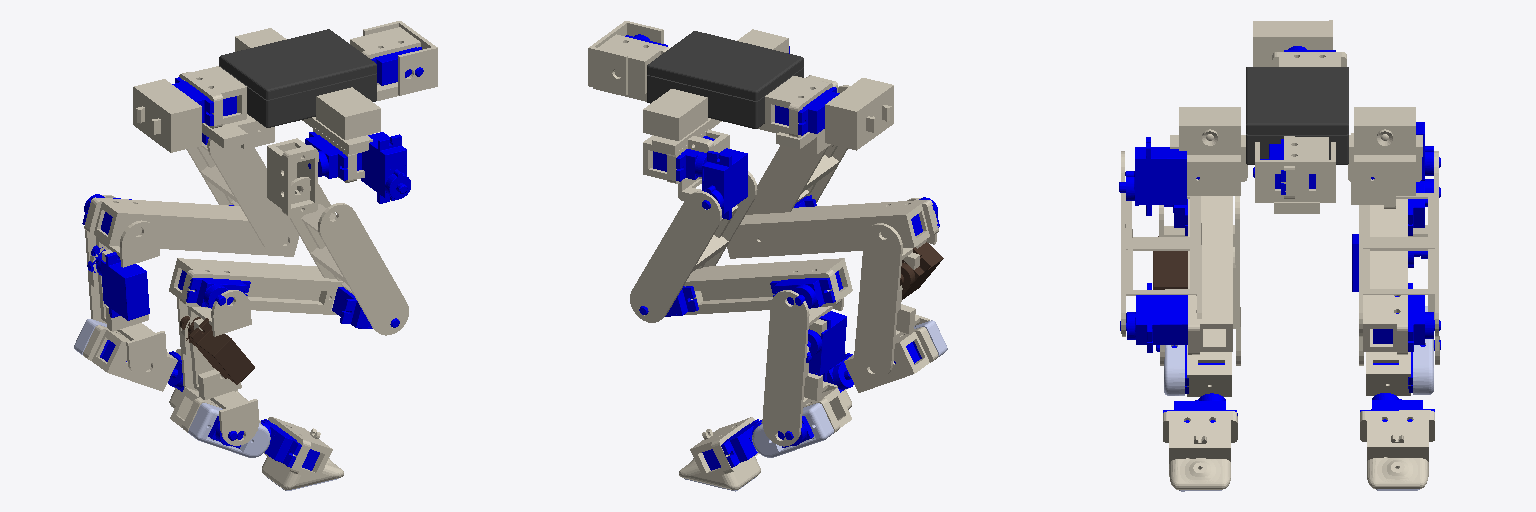
--- Facts derived from the render (not from the file) ---
Views: 3 orthographic renders of the robot side by side, from view 1: azimuth 30°, elevation 25°; view 2: azimuth 150°, elevation 25°; view 3: azimuth 270°, elevation 25°.
Robot: p4 — 42 links, 41 joints (15 continuous, 26 fixed); root link base_link; default pose: every joint at zero.
Links seen in each view (by area): view 1: CONTROL-BOX, R-LINK-HIP-ANKLE, L-LINK-ANKLE-TIBIA, R-LINK-ANKLE-TIBIA, L-LINK-HIP-ANKLE, R-LINK-TIBIA-FOOT, L-LINK-TIBIA-FOOT, REAR-CAPLING, R-SC-HIP-PITCH, L-SUCTION, R-FOOT, R-SERVO-HIP-PITCH (+16 smaller); view 2: CONTROL-BOX, R-LINK-ANKLE-TIBIA, L-LINK-HIP-ANKLE, R-LINK-TIBIA-FOOT, L-LINK-TIBIA-FOOT, L-LINK-ANKLE-TIBIA, R-LINK-HIP-ANKLE, REAR-CAPLING, L-FOOT, CAMERA-L, L-SERVO-HIP-PITCH, FRONT-CAPLING (+17 smaller); view 3: CONTROL-BOX, R-LINK-ANKLE-TIBIA, R-FOOT, L-FOOT, L-LINK-ANKLE-TIBIA, L-LINK-HIP-ANKLE, R-LINK-HIP-ANKLE, R-SERVO-HIP-PITCH, FRONT-CAPLING, R-SERVO-ANKLE-PITCH, L-SC-HIP-ROLL, CAMERA-R (+20 smaller).
Link boxes in pixels (bbox=[...]): CONTROL-BOX: bbox=[219, 29, 376, 127]; R-LINK-HIP-ANKLE: bbox=[290, 177, 408, 335]; L-LINK-ANKLE-TIBIA: bbox=[84, 197, 298, 256]; R-LINK-ANKLE-TIBIA: bbox=[169, 258, 343, 314]; L-LINK-HIP-ANKLE: bbox=[186, 138, 298, 253]; R-LINK-TIBIA-FOOT: bbox=[177, 290, 258, 445]; L-LINK-TIBIA-FOOT: bbox=[85, 195, 166, 377]; REAR-CAPLING: bbox=[133, 79, 201, 152]; R-SC-HIP-PITCH: bbox=[267, 138, 318, 217]; L-SUCTION: bbox=[87, 245, 149, 320]; R-FOOT: bbox=[262, 417, 343, 489]; R-SERVO-HIP-PITCH: bbox=[361, 132, 410, 203]; CONTROL-BOX: bbox=[647, 31, 803, 128]; R-LINK-ANKLE-TIBIA: bbox=[727, 200, 938, 258]; L-LINK-HIP-ANKLE: bbox=[630, 171, 757, 322]; R-LINK-TIBIA-FOOT: bbox=[854, 198, 936, 379]; L-LINK-TIBIA-FOOT: bbox=[762, 290, 843, 446]; L-LINK-ANKLE-TIBIA: bbox=[684, 258, 852, 314]; R-LINK-HIP-ANKLE: bbox=[746, 85, 849, 240]; REAR-CAPLING: bbox=[825, 78, 893, 150]; L-FOOT: bbox=[679, 417, 760, 489]; CAMERA-L: bbox=[643, 89, 707, 140]; L-SERVO-HIP-PITCH: bbox=[702, 148, 747, 219]; FRONT-CAPLING: bbox=[588, 21, 663, 94]; CONTROL-BOX: bbox=[1246, 67, 1348, 164]; R-LINK-ANKLE-TIBIA: bbox=[1188, 196, 1232, 354]; R-FOOT: bbox=[1163, 411, 1237, 489]; L-FOOT: bbox=[1360, 410, 1434, 488]; L-LINK-ANKLE-TIBIA: bbox=[1363, 199, 1407, 354]; L-LINK-HIP-ANKLE: bbox=[1359, 151, 1438, 336]; R-LINK-HIP-ANKLE: bbox=[1121, 151, 1201, 336]; R-SERVO-HIP-PITCH: bbox=[1119, 137, 1186, 215]; FRONT-CAPLING: bbox=[1255, 142, 1335, 202]; R-SERVO-ANKLE-PITCH: bbox=[1120, 283, 1187, 352]; L-SC-HIP-ROLL: bbox=[1348, 155, 1421, 195]; CAMERA-R: bbox=[1179, 107, 1240, 150].
Size in the robot's own frame: 0.1547 by 0.1403 by 0.1937 metres.
42 mesh visuals loaded from 42 distinct referenced files (42 OBJ).

URDF robot description (p4):
<?xml version="1.0" encoding="utf-8"?>
<!-- This URDF was automatically created by SolidWorks to URDF Exporter! Originally created by Stephen Brawner ([email redacted]) 
     Commit Version: 1.6.0-1-g15f4949  Build Version: 1.6.7594.29634
     For more information, please see http://wiki.ros.org/sw_urdf_exporter -->
<robot
  name="p4">
  <link
    name="base_link">
    <inertial>
      <origin
        xyz="0.000130833846896952 -5.09584418458345E-06 0.00251356024970444"
        rpy="0 0 0" />
      <mass
        value="0.0191012536604614" />
      <inertia
        ixx="8.08993467976211E-06"
        ixy="4.57728253330525E-09"
        ixz="-1.2180335950482E-08"
        iyy="1.71771116325382E-05"
        iyz="3.35403185901532E-10"
        izz="2.51810305583356E-05" />
    </inertial>
    <visual>
      <origin
        xyz="0 0 0"
        rpy="0 0 0" />
      <geometry>
        <mesh
          filename="meshes/base_link.obj" />
      </geometry>
      <material
        name="">
        <color
          rgba="0.843137254901961 0.815686274509804 0.752941176470588 1" />
      </material>
    </visual>
    <collision>
      <origin
        xyz="0 0 0"
        rpy="0 0 0" />
      <geometry>
        <mesh
          filename="meshes/base_link.obj" />
      </geometry>
    </collision>
  </link>
  <link
    name="SC-FRONT-CAPLING">
    <inertial>
      <origin
        xyz="-4.62080969304418E-05 0 0.00584718632904135"
        rpy="0 0 0" />
      <mass
        value="0.00388168562397067" />
      <inertia
        ixx="3.09363335808725E-07"
        ixy="-3.47157363330849E-23"
        ixz="-1.22041640500417E-09"
        iyy="5.16127047137716E-07"
        iyz="-6.20385459414771E-24"
        izz="4.87639165330734E-07" />
    </inertial>
    <visual>
      <origin
        xyz="0 0 0"
        rpy="0 0 0" />
      <geometry>
        <mesh
          filename="meshes/SC-FRONT-CAPLING.obj" />
      </geometry>
      <material
        name="">
        <color
          rgba="0.843137254901961 0.815686274509804 0.752941176470588 1" />
      </material>
    </visual>
    <collision>
      <origin
        xyz="0 0 0"
        rpy="0 0 0" />
      <geometry>
        <mesh
          filename="meshes/SC-FRONT-CAPLING.obj" />
      </geometry>
    </collision>
  </link>
  <joint
    name="SC-FRONT-CAPLING"
    type="fixed">
    <origin
      xyz="0.0471559317126615 0.0105 0.0133"
      rpy="1.5707963267949 0 0" />
    <parent
      link="base_link" />
    <child
      link="SC-FRONT-CAPLING" />
    <axis
      xyz="0 0 0" />
  </joint>
  <link
    name="SERVO-FRONT-CAPLING-PITCH">
    <inertial>
      <origin
        xyz="-0.00038450850214946 0.0136027787684369 1.20910077089365E-10"
        rpy="0 0 0" />
      <mass
        value="0.00691519224201597" />
      <inertia
        ixx="4.42030047319264E-07"
        ixy="3.31941458676756E-08"
        ixz="-9.72969179119033E-14"
        iyy="4.05343652309664E-07"
        iyz="-7.29616884211451E-15"
        izz="6.8499830986961E-07" />
    </inertial>
    <visual>
      <origin
        xyz="0 0 0"
        rpy="0 0 0" />
      <geometry>
        <mesh
          filename="meshes/SERVO-FRONT-CAPLING-PITCH.obj" />
      </geometry>
      <material
        name="">
        <color
          rgba="0 0 1 1" />
      </material>
    </visual>
    <collision>
      <origin
        xyz="0 0 0"
        rpy="0 0 0" />
      <geometry>
        <mesh
          filename="meshes/SERVO-FRONT-CAPLING-PITCH.obj" />
      </geometry>
    </collision>
  </link>
  <joint
    name="SERVO-FRONT-CAPLING-PITCH"
    type="fixed">
    <origin
      xyz="0 0 0"
      rpy="1.5707963267949 0 -3.14159265358979" />
    <parent
      link="SC-FRONT-CAPLING" />
    <child
      link="SERVO-FRONT-CAPLING-PITCH" />
    <axis
      xyz="0 0 0" />
  </joint>
  <link
    name="FRONT-CAPLING">
    <inertial>
      <origin
        xyz="0.014574688650026 -0.0125000001368535 7.15962462633987E-06"
        rpy="0 0 0" />
      <mass
        value="0.00270228717508012" />
      <inertia
        ixx="6.13949611396288E-07"
        ixy="-3.85120019481727E-15"
        ixz="-2.29493110058851E-14"
        iyy="2.03802701162907E-07"
        iyz="-3.47736389759636E-21"
        izz="6.27041981381136E-07" />
    </inertial>
    <visual>
      <origin
        xyz="0 0 0"
        rpy="0 0 0" />
      <geometry>
        <mesh
          filename="meshes/FRONT-CAPLING.obj" />
      </geometry>
      <material
        name="">
        <color
          rgba="0.843137254901961 0.815686274509804 0.752941176470588 1" />
      </material>
    </visual>
    <collision>
      <origin
        xyz="0 0 0"
        rpy="0 0 0" />
      <geometry>
        <mesh
          filename="meshes/FRONT-CAPLING.obj" />
      </geometry>
    </collision>
  </link>
  <joint
    name="CAPLING-F-PITCH"
    type="continuous">
    <origin
      xyz="0 0 0"
      rpy="0 0.00136062510321918 -3.14159264419998" />
    <parent
      link="SERVO-FRONT-CAPLING-PITCH" />
    <child
      link="FRONT-CAPLING" />
    <axis
      xyz="0 1 0" />
    <limit
      lower="-6.28"
      upper="6.28"
      effort="80"
      velocity="15" />
  </joint>
  <link
    name="SC-REAR-CAPLING">
    <inertial>
      <origin
        xyz="-4.62080969304245E-05 3.46944695195361E-18 0.00584718632904137"
        rpy="0 0 0" />
      <mass
        value="0.00388168562397067" />
      <inertia
        ixx="3.09363335808725E-07"
        ixy="3.26736341958446E-23"
        ixz="-1.22041640500443E-09"
        iyy="5.16127047137717E-07"
        iyz="-3.47932845155117E-23"
        izz="4.87639165330735E-07" />
    </inertial>
    <visual>
      <origin
        xyz="0 0 0"
        rpy="0 0 0" />
      <geometry>
        <mesh
          filename="meshes/SC-REAR-CAPLING.obj" />
      </geometry>
      <material
        name="">
        <color
          rgba="0.843137254901961 0.815686274509804 0.752941176470588 1" />
      </material>
    </visual>
    <collision>
      <origin
        xyz="0 0 0"
        rpy="0 0 0" />
      <geometry>
        <mesh
          filename="meshes/SC-REAR-CAPLING.obj" />
      </geometry>
    </collision>
  </link>
  <joint
    name="SC-REAR-CAPLING"
    type="fixed">
    <origin
      xyz="-0.0373440682873384 0.00524999999999999 0.0133"
      rpy="1.5707963267949 0 -1.5707963267949" />
    <parent
      link="base_link" />
    <child
      link="SC-REAR-CAPLING" />
    <axis
      xyz="0 0 0" />
  </joint>
  <link
    name="SERVO-REAR-CAPLING-ROLL">
    <inertial>
      <origin
        xyz="-0.000384508488524862 0.0136027787506022 9.57142906599096E-11"
        rpy="0 0 0" />
      <mass
        value="0.00691519222019108" />
      <inertia
        ixx="4.42030046142476E-07"
        ixy="3.31941452180302E-08"
        ixz="-9.80192861599844E-14"
        iyy="4.05343651347374E-07"
        iyz="-5.85892562390251E-15"
        izz="6.84998308642159E-07" />
    </inertial>
    <visual>
      <origin
        xyz="0 0 0"
        rpy="0 0 0" />
      <geometry>
        <mesh
          filename="meshes/SERVO-REAR-CAPLING-ROLL.obj" />
      </geometry>
      <material
        name="">
        <color
          rgba="0 0 1 1" />
      </material>
    </visual>
    <collision>
      <origin
        xyz="0 0 0"
        rpy="0 0 0" />
      <geometry>
        <mesh
          filename="meshes/SERVO-REAR-CAPLING-ROLL.obj" />
      </geometry>
    </collision>
  </link>
  <joint
    name="SERVO-REAR-CAPLING-ROLL"
    type="fixed">
    <origin
      xyz="0 0 0"
      rpy="1.5707963267949 0 3.14159265358979" />
    <parent
      link="SC-REAR-CAPLING" />
    <child
      link="SERVO-REAR-CAPLING-ROLL" />
    <axis
      xyz="0 0 0" />
  </joint>
  <link
    name="REAR-CAPLING">
    <inertial>
      <origin
        xyz="-0.00202494491526174 0 -0.00800243164091274"
        rpy="0 0 0" />
      <mass
        value="0.00787132522957532" />
      <inertia
        ixx="5.83100326597712E-07"
        ixy="1.78671012311454E-22"
        ixz="1.0750572492642E-09"
        iyy="1.18904229209336E-06"
        iyz="6.81390029590557E-23"
        izz="1.26739941933807E-06" />
    </inertial>
    <visual>
      <origin
        xyz="0 0 0"
        rpy="0 0 0" />
      <geometry>
        <mesh
          filename="meshes/REAR-CAPLING.obj" />
      </geometry>
      <material
        name="">
        <color
          rgba="0.843137254901961 0.815686274509804 0.752941176470588 1" />
      </material>
    </visual>
    <collision>
      <origin
        xyz="0 0 0"
        rpy="0 0 0" />
      <geometry>
        <mesh
          filename="meshes/REAR-CAPLING.obj" />
      </geometry>
    </collision>
  </link>
  <joint
    name="CAPLING-REAR-ROLL"
    type="continuous">
    <origin
      xyz="-0.00525000000000002 0.0277727899695562 0"
      rpy="1.5707963267949 -0.00599774643389022 0" />
    <parent
      link="SERVO-REAR-CAPLING-ROLL" />
    <child
      link="REAR-CAPLING" />
    <axis
      xyz="0 0 1" />
    <limit
      lower="-6.28"
      upper="6.28"
      effort="80"
      velocity="15" />
  </joint>
  <link
    name="CAMERA-R">
    <inertial>
      <origin
        xyz="-1.01915004213637E-13 -0.00225514018951331 0.00548823668072749"
        rpy="0 0 0" />
      <mass
        value="0.00441438279557042" />
      <inertia
        ixx="2.33951287452868E-07"
        ixy="3.51553518093838E-19"
        ixz="-2.33978472993899E-18"
        iyy="4.66886094850384E-07"
        iyz="-3.66670288580514E-10"
        izz="3.63002723525073E-07" />
    </inertial>
    <visual>
      <origin
        xyz="0 0 0"
        rpy="0 0 0" />
      <geometry>
        <mesh
          filename="meshes/CAMERA-R.obj" />
      </geometry>
      <material
        name="">
        <color
          rgba="0.843137254901961 0.815686274509804 0.752941176470588 1" />
      </material>
    </visual>
    <collision>
      <origin
        xyz="0 0 0"
        rpy="0 0 0" />
      <geometry>
        <mesh
          filename="meshes/CAMERA-R.obj" />
      </geometry>
    </collision>
  </link>
  <joint
    name="CAMERA-R"
    type="fixed">
    <origin
      xyz="0.00995593171266154 -0.038 0.0133"
      rpy="1.5707963267949 0 -1.5707963267949" />
    <parent
      link="base_link" />
    <child
      link="CAMERA-R" />
    <axis
      xyz="0 0 0" />
  </joint>
  <link
    name="CAMERA-L">
    <inertial>
      <origin
        xyz="-6.37129238256762E-14 -0.00225513996537154 0.0054882408557551"
        rpy="0 0 0" />
      <mass
        value="0.00441438009619701" />
      <inertia
        ixx="2.33951152269053E-07"
        ixy="4.30339679704947E-19"
        ixz="-1.54909928228997E-18"
        iyy="4.66885956678154E-07"
        iyz="-3.66662417948698E-10"
        izz="3.63002718179101E-07" />
    </inertial>
    <visual>
      <origin
        xyz="0 0 0"
        rpy="0 0 0" />
      <geometry>
        <mesh
          filename="meshes/CAMERA-L.obj" />
      </geometry>
      <material
        name="">
        <color
          rgba="0.843137254901961 0.815686274509804 0.752941176470588 1" />
      </material>
    </visual>
    <collision>
      <origin
        xyz="0 0 0"
        rpy="0 0 0" />
      <geometry>
        <mesh
          filename="meshes/CAMERA-L.obj" />
      </geometry>
    </collision>
  </link>
  <joint
    name="CAMERA-L"
    type="fixed">
    <origin
      xyz="0.00995593171266154 0.038 0.0133"
      rpy="1.5707963267949 0 -1.5707963267949" />
    <parent
      link="base_link" />
    <child
      link="CAMERA-L" />
    <axis
      xyz="0 0 0" />
  </joint>
  <link
    name="CONTROL-BOX">
    <inertial>
      <origin
        xyz="0 -3.46944695195361E-18 0.00999094259173401"
        rpy="0 0 0" />
      <mass
        value="0.0537914675196551" />
      <inertia
        ixx="1.08257277154903E-05"
        ixy="5.91666782522695E-22"
        ixz="-9.62011052399171E-22"
        iyy="1.78698396830791E-05"
        iyz="-5.29395592033938E-22"
        izz="2.51183318462632E-05" />
    </inertial>
    <visual>
      <origin
        xyz="0 0 0"
        rpy="0 0 0" />
      <geometry>
        <mesh
          filename="meshes/CONTROL-BOX.obj" />
      </geometry>
      <material
        name="">
        <color
          rgba="0.298039215686275 0.298039215686275 0.298039215686275 1" />
      </material>
    </visual>
    <collision>
      <origin
        xyz="0 0 0"
        rpy="0 0 0" />
      <geometry>
        <mesh
          filename="meshes/CONTROL-BOX.obj" />
      </geometry>
    </collision>
  </link>
  <joint
    name="CONTROL-BOX"
    type="fixed">
    <origin
      xyz="-0.0020940682873385 0 0.005"
      rpy="0 0 0" />
    <parent
      link="base_link" />
    <child
      link="CONTROL-BOX" />
    <axis
      xyz="0 0 0" />
  </joint>
  <link
    name="R-SC-HIP-ROLL">
    <inertial>
      <origin
        xyz="-4.62080969304297E-05 6.50521303491303E-19 0.00584718632904135"
        rpy="0 0 0" />
      <mass
        value="0.00388168562397067" />
      <inertia
        ixx="3.09363335808725E-07"
        ixy="-2.254067169207E-23"
        ixz="-1.22041640500427E-09"
        iyy="5.16127047137717E-07"
        iyz="1.62851183096377E-23"
        izz="4.87639165330735E-07" />
    </inertial>
    <visual>
      <origin
        xyz="0 0 0"
        rpy="0 0 0" />
      <geometry>
        <mesh
          filename="meshes/R-SC-HIP-ROLL.obj" />
      </geometry>
      <material
        name="">
        <color
          rgba="0.843137254901961 0.815686274509804 0.752941176470588 1" />
      </material>
    </visual>
    <collision>
      <origin
        xyz="0 0 0"
        rpy="0 0 0" />
      <geometry>
        <mesh
          filename="meshes/R-SC-HIP-ROLL.obj" />
      </geometry>
    </collision>
  </link>
  <joint
    name="R-SC-HIP-ROLL"
    type="fixed">
    <origin
      xyz="0.00995593171266153 -0.038 -0.0083"
      rpy="1.5707963267949 0 -1.5707963267949" />
    <parent
      link="base_link" />
    <child
      link="R-SC-HIP-ROLL" />
    <axis
      xyz="0 0 0" />
  </joint>
  <link
    name="R-SERVO-HIP-ROLL">
    <inertial>
      <origin
        xyz="-0.000384508493185099 0.0136027787565833 1.15177337285666E-10"
        rpy="0 0 0" />
      <mass
        value="0.00691519222535946" />
      <inertia
        ixx="4.42030046583754E-07"
        ixy="3.31941454934825E-08"
        ixz="-9.74447356917254E-14"
        iyy="4.05343651641893E-07"
        iyz="-7.02838499891047E-15"
        izz="6.84998309178909E-07" />
    </inertial>
    <visual>
      <origin
        xyz="0 0 0"
        rpy="0 0 0" />
      <geometry>
        <mesh
          filename="meshes/R-SERVO-HIP-ROLL.obj" />
      </geometry>
      <material
        name="">
        <color
          rgba="0 0 1 1" />
      </material>
    </visual>
    <collision>
      <origin
        xyz="0 0 0"
        rpy="0 0 0" />
      <geometry>
        <mesh
          filename="meshes/R-SERVO-HIP-ROLL.obj" />
      </geometry>
    </collision>
  </link>
  <joint
    name="R-SERVO-HIP-ROLL"
    type="fixed">
    <origin
      xyz="0 0 0"
      rpy="1.5707963267949 0 3.14159265358979" />
    <parent
      link="R-SC-HIP-ROLL" />
    <child
      link="R-SERVO-HIP-ROLL" />
    <axis
      xyz="0 0 0" />
  </joint>
  <link
    name="R-SC-HIP-PITCH">
    <inertial>
      <origin
        xyz="0.00545379190306954 -0.00834421800043532 -0.00595281367095862"
        rpy="0 0 0" />
      <mass
        value="0.00388168562397067" />
      <inertia
        ixx="3.09363335808725E-07"
        ixy="6.08443039321036E-22"
        ixz="-1.22041640500463E-09"
        iyy="5.16127047137718E-07"
        iyz="1.57914049789397E-23"
        izz="4.87639165330735E-07" />
    </inertial>
    <visual>
      <origin
        xyz="0 0 0"
        rpy="0 0 0" />
      <geometry>
        <mesh
          filename="meshes/R-SC-HIP-PITCH.obj" />
      </geometry>
      <material
        name="">
        <color
          rgba="0.843137254901961 0.815686274509804 0.752941176470588 1" />
      </material>
    </visual>
    <collision>
      <origin
        xyz="0 0 0"
        rpy="0 0 0" />
      <geometry>
        <mesh
          filename="meshes/R-SC-HIP-PITCH.obj" />
      </geometry>
    </collision>
  </link>
  <joint
    name="R-HIP-ROLL"
    type="continuous">
    <origin
      xyz="-0.00525000000000002 0.0287557819995647 0"
      rpy="3.14159265358929 1.56467062695372 0" />
    <parent
      link="R-SERVO-HIP-ROLL" />
    <child
      link="R-SC-HIP-PITCH" />
    <axis
      xyz="0 1 0" />
    <limit
      lower="-6.28"
      upper="6.28"
      effort="80"
      velocity="15" />
  </joint>
  <link
    name="R-SERVO-HIP-PITCH">
    <inertial>
      <origin
        xyz="-0.00591360539324797 -0.0029471321150755 -0.0370999999022565"
        rpy="0 0 0" />
      <mass
        value="0.00691519223490345" />
      <inertia
        ixx="4.4203004720847E-07"
        ixy="3.31941458833204E-08"
        ixz="-9.7976417692398E-14"
        iyy="4.05343652123432E-07"
        iyz="-5.91378038922202E-15"
        izz="6.84998309841992E-07" />
    </inertial>
    <visual>
      <origin
        xyz="0 0 0"
        rpy="0 0 0" />
      <geometry>
        <mesh
          filename="meshes/R-SERVO-HIP-PITCH.obj" />
      </geometry>
      <material
        name="">
        <color
          rgba="0 0 1 1" />
      </material>
    </visual>
    <collision>
      <origin
        xyz="0 0 0"
        rpy="0 0 0" />
      <geometry>
        <mesh
          filename="meshes/R-SERVO-HIP-PITCH.obj" />
      </geometry>
    </collision>
  </link>
  <joint
    name="R-SERVO-HIP-PITCH"
    type="fixed">
    <origin
      xyz="-2.90968922719282E-05 0.0287557819995648 0.00474991088030713"
      rpy="1.5707963267949 0 3.14159265358979" />
    <parent
      link="R-SC-HIP-PITCH" />
    <child
      link="R-SERVO-HIP-PITCH" />
    <axis
      xyz="0 0 0" />
  </joint>
  <link
    name="R-LINK-HIP-ANKLE">
    <inertial>
      <origin
        xyz="0.0355000000000001 0.0040499108803071 -6.93889390390723E-18"
        rpy="0 0 0" />
      <mass
        value="0.0128808114115962" />
      <inertia
        ixx="2.7990680763248E-06"
        ixy="-2.23752355695594E-22"
        ixz="1.90582413132218E-21"
        iyy="4.16552090795131E-06"
        iyz="1.60204205136208E-21"
        izz="6.28781585284836E-06" />
    </inertial>
    <visual>
      <origin
        xyz="0 0 0"
        rpy="0 0 0" />
      <geometry>
        <mesh
          filename="meshes/R-LINK-HIP-ANKLE.obj" />
      </geometry>
      <material
        name="">
        <color
          rgba="0.843137254901961 0.815686274509804 0.752941176470588 1" />
      </material>
    </visual>
    <collision>
      <origin
        xyz="0 0 0"
        rpy="0 0 0" />
      <geometry>
        <mesh
          filename="meshes/R-LINK-HIP-ANKLE.obj" />
      </geometry>
    </collision>
  </link>
  <joint
    name="R-HIP-PITCH"
    type="continuous">
    <origin
      xyz="-0.0107790968922718 0 -0.0371000000000001"
      rpy="0 -0.485143684220994 3.14159265358979" />
    <parent
      link="R-SERVO-HIP-PITCH" />
    <child
      link="R-LINK-HIP-ANKLE" />
    <axis
      xyz="0 1 0" />
    <limit
      lower="-6.28"
      upper="6.28"
      effort="80"
      velocity="15" />
  </joint>
  <link
    name="R-SERVO-ANKLE-PITCH">
    <inertial>
      <origin
        xyz="0.00486549150075104 -0.00294713210168423 1.13097892162628E-10"
        rpy="0 0 0" />
      <mass
        value="0.00691519224247509" />
      <inertia
        ixx="4.42030048324441E-07"
        ixy="3.31941458847873E-08"
        ixz="-9.75133494341107E-14"
        iyy="4.05343652091162E-07"
        iyz="-6.88172051353781E-15"
        izz="6.8499831061536E-07" />
    </inertial>
    <visual>
      <origin
        xyz="0 0 0"
        rpy="0 0 0" />
      <geometry>
        <mesh
          filename="meshes/R-SERVO-ANKLE-PITCH.obj" />
      </geometry>
      <material
        name="">
        <color
          rgba="0 0 1 1" />
      </material>
    </visual>
    <collision>
      <origin
        xyz="0 0 0"
        rpy="0 0 0" />
      <geometry>
        <mesh
          filename="meshes/R-SERVO-ANKLE-PITCH.obj" />
      </geometry>
    </collision>
  </link>
  <joint
    name="R-ANKLE-PITCH"
    type="continuous">
    <origin
      xyz="0.0710000000000002 0 0"
      rpy="0 0.802849328179599 -3.14159265358979" />
    <parent
      link="R-LINK-HIP-ANKLE" />
    <child
      link="R-SERVO-ANKLE-PITCH" />
    <axis
      xyz="0 1 0" />
    <limit
      lower="-6.28"
      upper="6.28"
      effort="80"
      velocity="15" />
  </joint>
  <link
    name="R-LINK-ANKLE-TIBIA">
    <inertial>
      <origin
        xyz="0.0385 2.77555756156289E-17 0.00599868719391975"
        rpy="0 0 0" />
      <mass
        value="0.0169515393948696" />
      <inertia
        ixx="1.27646377972887E-06"
        ixy="-2.64697796016969E-21"
        ixz="7.76438251851728E-22"
        iyy="1.4737629444282E-05"
        iyz="-1.18286827595083E-22"
        izz="1.46513437096869E-05" />
    </inertial>
    <visual>
      <origin
        xyz="0 0 0"
        rpy="0 0 0" />
      <geometry>
        <mesh
          filename="meshes/R-LINK-ANKLE-TIBIA.obj" />
      </geometry>
      <material
        name="">
        <color
          rgba="0.843137254901961 0.815686274509804 0.752941176470588 1" />
      </material>
    </visual>
    <collision>
      <origin
        xyz="0 0 0"
        rpy="0 0 0" />
      <geometry>
        <mesh
          filename="meshes/R-LINK-ANKLE-TIBIA.obj" />
      </geometry>
    </collision>
  </link>
  <joint
    name="R-LINK-ANKLE-TIBIA"
    type="fixed">
    <origin
      xyz="0.08225 -0.0165499108803071 0"
      rpy="1.5707963267949 0 -3.14159265358979" />
    <parent
      link="R-SERVO-ANKLE-PITCH" />
    <child
      link="R-LINK-ANKLE-TIBIA" />
    <axis
      xyz="0 0 0" />
  </joint>
  <link
    name="R-SERVO-TIBIA-PITCH">
    <inertial>
      <origin
        xyz="-0.00038450849721279 0.0136027787678955 1.04213443430368E-10"
        rpy="0 0 0" />
      <mass
        value="0.00691519223380914" />
      <inertia
        ixx="4.42030047498186E-07"
        ixy="3.31941457501825E-08"
        ixz="-9.78048382734444E-14"
        iyy="4.05343651896072E-07"
        iyz="-6.31370399296552E-15"
        izz="6.84998309951388E-07" />
    </inertial>
    <visual>
      <origin
        xyz="0 0 0"
        rpy="0 0 0" />
      <geometry>
        <mesh
          filename="meshes/R-SERVO-TIBIA-PITCH.obj" />
      </geometry>
      <material
        name="">
        <color
          rgba="0 0 1 1" />
      </material>
    </visual>
    <collision>
      <origin
        xyz="0 0 0"
        rpy="0 0 0" />
      <geometry>
        <mesh
          filename="meshes/R-SERVO-TIBIA-PITCH.obj" />
      </geometry>
    </collision>
  </link>
  <joint
    name="R-SERVO-TIBIA-PITCH"
    type="fixed">
    <origin
      xyz="0 0 0"
      rpy="1.5707963267949 0 0" />
    <parent
      link="R-LINK-ANKLE-TIBIA" />
    <child
      link="R-SERVO-TIBIA-PITCH" />
    <axis
      xyz="0 0 0" />
  </joint>
  <link
    name="R-LINK-TIBIA-FOOT">
    <inertial>
      <origin
        xyz="-0.0345628071394706 -0.00758934273175064 0.00492030508195247"
        rpy="0 0 0" />
      <mass
        value="0.00862384221571939" />
      <inertia
        ixx="1.56482853918434E-06"
        ixy="-9.25199440592271E-09"
        ixz="2.38005169920403E-09"
        iyy="4.04460133877993E-06"
        iyz="6.61009493683602E-10"
        izz="5.13010743226957E-06" />
    </inertial>
    <visual>
      <origin
        xyz="0 0 0"
        rpy="0 0 0" />
      <geometry>
        <mesh
          filename="meshes/R-LINK-TIBIA-FOOT.obj" />
      </geometry>
      <material
        name="">
        <color
          rgba="0.843137254901961 0.815686274509804 0.752941176470588 1" />
      </material>
    </visual>
    <collision>
      <origin
        xyz="0 0 0"
        rpy="0 0 0" />
      <geometry>
        <mesh
          filename="meshes/R-LINK-TIBIA-FOOT.obj" />
      </geometry>
    </collision>
  </link>
  <joint
    name="R-TIBIA-PITCH"
    type="continuous">
    <origin
      xyz="0 0 0"
      rpy="0 1.20507361710935 -3.14159265358979" />
    <parent
      link="R-SERVO-TIBIA-PITCH" />
    <child
      link="R-LINK-TIBIA-FOOT" />
    <axis
      xyz="0 1 0" />
    <limit
      lower="-6.28"
      upper="6.28"
      effort="80"
      velocity="15" />
  </joint>
  <link
    name="R-SUCTION">
    <inertial>
      <origin
        xyz="-0.000673330446127426 -0.00456343827298224 0.0191015800545688"
        rpy="0 0 0" />
      <mass
        value="0.00729393814209891" />
      <inertia
        ixx="6.83967260555949E-07"
        ixy="-3.5085776382286E-08"
        ixz="4.84530957369619E-09"
        iyy="4.51352708772592E-07"
        iyz="3.28386097796985E-08"
        izz="4.12017300790427E-07" />
    </inertial>
    <visual>
      <origin
        xyz="0 0 0"
        rpy="0 0 0" />
      <geometry>
        <mesh
          filename="meshes/R-SUCTION.obj" />
      </geometry>
      <material
        name="">
        <color
          rgba="0.317647058823529 0.247058823529412 0.207843137254902 1" />
      </material>
    </visual>
    <collision>
      <origin
        xyz="0 0 0"
        rpy="0 0 0" />
      <geometry>
        <mesh
          filename="meshes/R-SUCTION.obj" />
      </geometry>
    </collision>
  </link>
  <joint
    name="R-SUCTION"
    type="continuous">
    <origin
      xyz="-0.0256224724171834 0 0.00490279411925112"
      rpy="1.57079632679489 1.42430434544001 0" />
    <parent
      link="R-LINK-TIBIA-FOOT" />
    <child
      link="R-SUCTION" />
    <axis
      xyz="0 0 1" />
  </joint>
  <link
    name="R-SERVO-FOOT-PITCH">
    <inertial>
      <origin
        xyz="0.00486549149266701 0.0126249345330506 1.11777781475197E-10"
        rpy="0 0 0" />
      <mass
        value="0.00691519225207978" />
      <inertia
        ixx="4.42030049203496E-07"
        ixy="3.31941463701236E-08"
        ixz="-9.75160413445217E-14"
        iyy="4.053436525852E-07"
        iyz="-6.78393510293757E-15"
        izz="6.84998311564283E-07" />
    </inertial>
    <visual>
      <origin
        xyz="0 0 0"
        rpy="0 0 0" />
      <geometry>
        <mesh
          filename="meshes/R-SERVO-FOOT-PITCH.obj" />
      </geometry>
      <material
        name="">
        <color
          rgba="0 0 1 1" />
      </material>
    </visual>
    <collision>
      <origin
        xyz="0 0 0"
        rpy="0 0 0" />
      <geometry>
        <mesh
          filename="meshes/R-SERVO-FOOT-PITCH.obj" />
      </geometry>
    </collision>
  </link>
  <joint
    name="R-FOOT-PITCH"
    type="continuous">
    <origin
      xyz="-0.0691224724171834 -0.000977844256942021 0.00490279411925121"
      rpy="0 0.97654912407395 3.14159265358979" />
    <parent
      link="R-LINK-TIBIA-FOOT" />
    <child
      link="R-SERVO-FOOT-PITCH" />
    <axis
      xyz="0 1 0" />
    <limit
      lower="-6.28"
      upper="6.28"
      effort="80"
      velocity="15" />
  </joint>
  <link
    name="R-SC-FOOT-PITCH">
    <inertial>
      <origin
        xyz="-0.0116475011718978 -1.79886688878028E-10 0.011930425897193"
        rpy="0 0 0" />
      <mass
        value="0.00307410333491163" />
      <inertia
        ixx="1.08655905724465E-07"
        ixy="8.17109909948726E-15"
        ixz="1.2033846343434E-09"
        iyy="5.74904927195879E-07"
        iyz="2.60465635781628E-16"
        izz="6.41370990212061E-07" />
    </inertial>
    <visual>
      <origin
        xyz="0 0 0"
        rpy="0 0 0" />
      <geometry>
        <mesh
          filename="meshes/R-SC-FOOT-PITCH.obj" />
      </geometry>
      <material
        name="">
        <color
          rgba="0.792156862745098 0.819607843137255 0.933333333333333 1" />
      </material>
    </visual>
    <collision>
      <origin
        xyz="0 0 0"
        rpy="0 0 0" />
      <geometry>
        <mesh
          filename="meshes/R-SC-FOOT-PITCH.obj" />
      </geometry>
    </collision>
  </link>
  <joint
    name="R-SC-FOOT-PITCH"
    type="fixed">
    <origin
      xyz="0 0.01 0"
      rpy="1.5707963267949 0 -3.14159265358979" />
    <parent
      link="R-SERVO-FOOT-PITCH" />
    <child
      link="R-SC-FOOT-PITCH" />
    <axis
      xyz="0 0 0" />
  </joint>
  <link
    name="R-SC2-FOOT-PITCH">
    <inertial>
      <origin
        xyz="-0.0110056724842749 5.55111512312578E-17 0.00496076936591595"
        rpy="0 0 0" />
      <mass
        value="0.00563001173416683" />
      <inertia
        ixx="4.10832626497925E-07"
        ixy="1.19114008207636E-22"
        ixz="9.16102996573962E-09"
        iyy="9.89611620976257E-07"
        iyz="2.19254561114837E-22"
        izz="9.41329800063618E-07" />
    </inertial>
    <visual>
      <origin
        xyz="0 0 0"
        rpy="0 0 0" />
      <geometry>
        <mesh
          filename="meshes/R-SC2-FOOT-PITCH.obj" />
      </geometry>
      <material
        name="">
        <color
          rgba="0.843137254901961 0.815686274509804 0.752941176470588 1" />
      </material>
    </visual>
    <collision>
      <origin
        xyz="0 0 0"
        rpy="0 0 0" />
      <geometry>
        <mesh
          filename="meshes/R-SC2-FOOT-PITCH.obj" />
      </geometry>
    </collision>
  </link>
  <joint
    name="R-SC2-FOOT-PITCH"
    type="fixed">
    <origin
      xyz="0 0 0"
      rpy="1.5707963267949 0 -3.14159265358979" />
    <parent
      link="R-SERVO-FOOT-PITCH" />
    <child
      link="R-SC2-FOOT-PITCH" />
    <axis
      xyz="0 0 0" />
  </joint>
  <link
    name="R-SERVO-FOOT-ROLL">
    <inertial>
      <origin
        xyz="0.00486549042168783 -0.0100991811632752 1.24258159317492E-10"
        rpy="0 0 0" />
      <mass
        value="0.00691519435513484" />
      <inertia
        ixx="4.42030125260555E-07"
        ixy="3.31941861665824E-08"
        ixz="-1.10084141302447E-13"
        iyy="4.05343731208097E-07"
        iyz="-5.35385234642703E-15"
        izz="6.84998378046997E-07" />
    </inertial>
    <visual>
      <origin
        xyz="0 0 0"
        rpy="0 0 0" />
      <geometry>
        <mesh
          filename="meshes/R-SERVO-FOOT-ROLL.obj" />
      </geometry>
      <material
        name="">
        <color
          rgba="0 0 1 1" />
      </material>
    </visual>
    <collision>
      <origin
        xyz="0 0 0"
        rpy="0 0 0" />
      <geometry>
        <mesh
          filename="meshes/R-SERVO-FOOT-ROLL.obj" />
      </geometry>
    </collision>
  </link>
  <joint
    name="R-FOOT-ROLL"
    type="continuous">
    <origin
      xyz="-0.0335980387711934 0 0.00552215574305855"
      rpy="0 -1.56994489788078 -1.5707963267952" />
    <parent
      link="R-SC2-FOOT-PITCH" />
    <child
      link="R-SERVO-FOOT-ROLL" />
    <axis
      xyz="0 1 0" />
    <limit
      lower="-6.82"
      upper="6.82"
      effort="80"
      velocity="15" />
  </joint>
  <link
    name="R-FOOT">
    <inertial>
      <origin
        xyz="-1.9595603973268E-05 -0.0044418124757987 0.00135270410957823"
        rpy="0 0 0" />
      <mass
        value="0.00920518301651191" />
      <inertia
        ixx="1.05680978933747E-06"
        ixy="7.90531183374409E-10"
        ixz="-4.19159605554105E-10"
        iyy="1.27882439311495E-06"
        iyz="4.00295489659518E-08"
        izz="1.03165986822852E-06" />
    </inertial>
    <visual>
      <origin
        xyz="0 0 0"
        rpy="0 0 0" />
      <geometry>
        <mesh
          filename="meshes/R-FOOT.obj" />
      </geometry>
      <material
        name="">
        <color
          rgba="0.843137254901961 0.815686274509804 0.752941176470588 0.1" />
      </material>
    </visual>
    <collision>
      <origin
        xyz="0 0 0"
        rpy="0 0 0" />
      <geometry>
        <mesh
          filename="meshes/R-FOOT.obj" />
      </geometry>
    </collision>
  </link>
  <joint
    name="R-FOOT"
    type="fixed">
    <origin
      xyz="0.00525000000000002 -0.0237019612288078 0"
      rpy="-1.5707963267949 0 0" />
    <parent
      link="R-SERVO-FOOT-ROLL" />
    <child
      link="R-FOOT" />
    <axis
      xyz="0 0 0" />
  </joint>
  <link
    name="R-SUCTIONCUP">
    <inertial>
      <origin
        xyz="4.5102810375397E-17 0 0.0005"
        rpy="0 0 0" />
      <mass
        value="0.000547101592653591" />
      <inertia
        ixx="3.78528310393959E-08"
        ixy="-1.64002740059106E-24"
        ixz="-2.07180874566474E-23"
        iyy="1.64561539334398E-08"
        iyz="2.37224736805125E-23"
        izz="5.42178013740601E-08" />
    </inertial>
    <visual>
      <origin
        xyz="0 0 0"
        rpy="0 0 0" />
      <geometry>
        <mesh
          filename="meshes/R-SUCTIONCUP.obj" />
      </geometry>
      <material
        name="">
        <color
          rgba="0.792156862745098 0.819607843137255 0.933333333333333 1" />
      </material>
    </visual>
    <collision>
      <origin
        xyz="0 0 0"
        rpy="0 0 0" />
      <geometry>
        <mesh
          filename="meshes/R-SUCTIONCUP.obj" />
      </geometry>
    </collision>
  </link>
  <joint
    name="R-SUCTIONCUP"
    type="fixed">
    <origin
      xyz="0 -0.0116636317567742 -0.00454575689710258"
      rpy="1.06026723948583 0 -3.14159265358979" />
    <parent
      link="R-FOOT" />
    <child
      link="R-SUCTIONCUP" />
    <axis
      xyz="0 0 0" />
  </joint>
  <link
    name="L-SC-HIP-ROLL">
    <inertial>
      <origin
        xyz="-4.62080969304418E-05 4.33680868994202E-19 0.00584718632904136"
        rpy="0 0 0" />
      <mass
        value="0.00388168562397068" />
      <inertia
        ixx="3.09363335808725E-07"
        ixy="1.8508166205874E-23"
        ixz="-1.22041640500415E-09"
        iyy="5.16127047137717E-07"
        iyz="4.03250548619601E-24"
        izz="4.87639165330735E-07" />
    </inertial>
    <visual>
      <origin
        xyz="0 0 0"
        rpy="0 0 0" />
      <geometry>
        <mesh
          filename="meshes/L-SC-HIP-ROLL.obj" />
      </geometry>
      <material
        name="">
        <color
          rgba="0.843137254901961 0.815686274509804 0.752941176470588 1" />
      </material>
    </visual>
    <collision>
      <origin
        xyz="0 0 0"
        rpy="0 0 0" />
      <geometry>
        <mesh
          filename="meshes/L-SC-HIP-ROLL.obj" />
      </geometry>
    </collision>
  </link>
  <joint
    name="L-SC-HIP-ROLL"
    type="fixed">
    <origin
      xyz="0.00995593171266153 0.038 -0.0083"
      rpy="1.5707963267949 0 -1.5707963267949" />
    <parent
      link="base_link" />
    <child
      link="L-SC-HIP-ROLL" />
    <axis
      xyz="0 0 0" />
  </joint>
  <link
    name="L-SERVO-HIP-ROLL">
    <inertial>
      <origin
        xyz="-0.000384508496762415 0.0136027787678685 9.89175089494837E-11"
        rpy="0 0 0" />
      <mass
        value="0.00691519223632289" />
      <inertia
        ixx="4.42030047429821E-07"
        ixy="3.31941456594732E-08"
        ixz="-9.7966626336307E-14"
        iyy="4.05343651906443E-07"
        iyz="-5.93487733919098E-15"
        izz="6.84998309781969E-07" />
    </inertial>
    <visual>
      <origin
        xyz="0 0 0"
        rpy="0 0 0" />
      <geometry>
        <mesh
          filename="meshes/L-SERVO-HIP-ROLL.obj" />
      </geometry>
      <material
        name="">
        <color
          rgba="0 0 1 1" />
      </material>
    </visual>
    <collision>
      <origin
        xyz="0 0 0"
        rpy="0 0 0" />
      <geometry>
        <mesh
          filename="meshes/L-SERVO-HIP-ROLL.obj" />
      </geometry>
    </collision>
  </link>
  <joint
    name="L-SERVO-HIP-ROLL"
    type="fixed">
    <origin
      xyz="0 0 0"
      rpy="1.5707963267949 0 0" />
    <parent
      link="L-SC-HIP-ROLL" />
    <child
      link="L-SERVO-HIP-ROLL" />
    <axis
      xyz="0 0 0" />
  </joint>
  <link
    name="L-SC-HIP-PITCH">
    <inertial>
      <origin
        xyz="0.00546490418126241 0.0261 -0.000702825431231263"
        rpy="0 0 0" />
      <mass
        value="0.00388168562397067" />
      <inertia
        ixx="3.09363335808725E-07"
        ixy="-1.16547163369307E-21"
        ixz="-1.22041640500659E-09"
        iyy="5.16127047137717E-07"
        iyz="1.54663589450201E-22"
        izz="4.87639165330735E-07" />
    </inertial>
    <visual>
      <origin
        xyz="0 0 0"
        rpy="0 0 0" />
      <geometry>
        <mesh
          filename="meshes/L-SC-HIP-PITCH.obj" />
      </geometry>
      <material
        name="">
        <color
          rgba="0.843137254901961 0.815686274509804 0.752941176470588 1" />
      </material>
    </visual>
    <collision>
      <origin
        xyz="0 0 0"
        rpy="0 0 0" />
      <geometry>
        <mesh
          filename="meshes/L-SC-HIP-PITCH.obj" />
      </geometry>
    </collision>
  </link>
  <joint
    name="L-HIP-ROLL"
    type="continuous">
    <origin
      xyz="0 0.011 0"
      rpy="3.14159265358725 -1.56867970079681 -3.14159265358726" />
    <parent
      link="L-SERVO-HIP-ROLL" />
    <child
      link="L-SC-HIP-PITCH" />
    <axis
      xyz="0 1 0" />
    <limit
      lower="-6.28"
      upper="6.28"
      effort="80"
      velocity="15" />
  </joint>
  <link
    name="L-SERVO-HIP-PITCH">
    <inertial>
      <origin
        xyz="-0.000384508532970176 0.0126027788074705 9.4455776533664E-11"
        rpy="0 0 0" />
      <mass
        value="0.00691519228445372" />
      <inertia
        ixx="4.42030050063767E-07"
        ixy="3.31941474210122E-08"
        ixz="-9.83474661918464E-14"
        iyy="4.05343654284697E-07"
        iyz="-5.85213371803032E-15"
        izz="6.8499831283459E-07" />
    </inertial>
    <visual>
      <origin
        xyz="0 0 0"
        rpy="0 0 0" />
      <geometry>
        <mesh
          filename="meshes/L-SERVO-HIP-PITCH.obj" />
      </geometry>
      <material
        name="">
        <color
          rgba="0 0 1 1" />
      </material>
    </visual>
    <collision>
      <origin
        xyz="0 0 0"
        rpy="0 0 0" />
      <geometry>
        <mesh
          filename="meshes/L-SERVO-HIP-PITCH.obj" />
      </geometry>
    </collision>
  </link>
  <joint
    name="L-SERVO-HIP-PITCH"
    type="fixed">
    <origin
      xyz="0.00551111227819222 0.0261000000000001 -0.00555001176027257"
      rpy="1.5707963267949 0 -3.14159265358978" />
    <parent
      link="L-SC-HIP-PITCH" />
    <child
      link="L-SERVO-HIP-PITCH" />
    <axis
      xyz="0 0 0" />
  </joint>
  <link
    name="L-LINK-HIP-ANKLE">
    <inertial>
      <origin
        xyz="0.0354999999999947 0.0115000000000051 7.85482789922298E-15"
        rpy="0 0 0" />
      <mass
        value="0.0128808114115962" />
      <inertia
        ixx="2.7990680763248E-06"
        ixy="-4.3178827975268E-22"
        ixz="-5.29395592033938E-22"
        iyy="4.16552090795132E-06"
        iyz="-5.84816693074991E-22"
        izz="6.28781585284836E-06" />
    </inertial>
    <visual>
      <origin
        xyz="0 0 0"
        rpy="0 0 0" />
      <geometry>
        <mesh
          filename="meshes/L-LINK-HIP-ANKLE.obj" />
      </geometry>
      <material
        name="">
        <color
          rgba="0.843137254901961 0.815686274509804 0.752941176470588 1" />
      </material>
    </visual>
    <collision>
      <origin
        xyz="0 0 0"
        rpy="0 0 0" />
      <geometry>
        <mesh
          filename="meshes/L-LINK-HIP-ANKLE.obj" />
      </geometry>
    </collision>
  </link>
  <joint
    name="L-HIP-PITCH"
    type="continuous">
    <origin
      xyz="-0.00525000000000002 0 0"
      rpy="-3.1415926535897 0.494565195779334 3.14159265358968" />
    <parent
      link="L-SERVO-HIP-PITCH" />
    <child
      link="L-LINK-HIP-ANKLE" />
    <axis
      xyz="0 1 0" />
    <limit
      lower="-6.28"
      upper="6.28"
      effort="80"
      velocity="15" />
  </joint>
  <link
    name="L-SERVO-ANKLE">
    <inertial>
      <origin
        xyz="0.00486549145520969 0.0126027788613753 1.08968598033776E-10"
        rpy="0 0 0" />
      <mass
        value="0.00691519232272843" />
      <inertia
        ixx="4.42030054388557E-07"
        ixy="3.31941483389214E-08"
        ixz="-9.82184222666785E-14"
        iyy="4.05343655235574E-07"
        iyz="-6.57778833881213E-15"
        izz="6.84998316460898E-07" />
    </inertial>
    <visual>
      <origin
        xyz="0 0 0"
        rpy="0 0 0" />
      <geometry>
        <mesh
          filename="meshes/L-SERVO-ANKLE.obj" />
      </geometry>
      <material
        name="">
        <color
          rgba="0 0 1 1" />
      </material>
    </visual>
    <collision>
      <origin
        xyz="0 0 0"
        rpy="0 0 0" />
      <geometry>
        <mesh
          filename="meshes/L-SERVO-ANKLE.obj" />
      </geometry>
    </collision>
  </link>
  <joint
    name="L-ANKLE-PITCH"
    type="continuous">
    <origin
      xyz="0.0709999999999947 0 0"
      rpy="3.14159265358979 0.792689753329804 3.14159265358979" />
    <parent
      link="L-LINK-HIP-ANKLE" />
    <child
      link="L-SERVO-ANKLE" />
    <axis
      xyz="0 1 0" />
    <limit
      lower="-6.28"
      upper="6.28"
      effort="80"
      velocity="15" />
  </joint>
  <link
    name="L-LINK-ANKLE-TIBIA">
    <inertial>
      <origin
        xyz="0.0385 0 0.00599868719391976"
        rpy="0 0 0" />
      <mass
        value="0.0169515393948695" />
      <inertia
        ixx="1.27646377972887E-06"
        ixy="7.06743115365307E-21"
        ixz="-2.70270925394045E-21"
        iyy="1.4737629444282E-05"
        iyz="2.18375681713999E-22"
        izz="1.46513437096869E-05" />
    </inertial>
    <visual>
      <origin
        xyz="0 0 0"
        rpy="0 0 0" />
      <geometry>
        <mesh
          filename="meshes/L-LINK-ANKLE-TIBIA.obj" />
      </geometry>
      <material
        name="">
        <color
          rgba="0.843137254901961 0.815686274509804 0.752941176470588 1" />
      </material>
    </visual>
    <collision>
      <origin
        xyz="0 0 0"
        rpy="0 0 0" />
      <geometry>
        <mesh
          filename="meshes/L-LINK-ANKLE-TIBIA.obj" />
      </geometry>
    </collision>
  </link>
  <joint
    name="L-LINK-ANKLE-TIBIA"
    type="fixed">
    <origin
      xyz="0.08225 -0.000999999999994901 0"
      rpy="1.5707963267949 0 -3.14159265358979" />
    <parent
      link="L-SERVO-ANKLE" />
    <child
      link="L-LINK-ANKLE-TIBIA" />
    <axis
      xyz="0 0 0" />
  </joint>
  <link
    name="L-SERVO-TIBIA-PITCH">
    <inertial>
      <origin
        xyz="-0.000384508507944747 0.0136027787963938 1.05856545751237E-10"
        rpy="0 0 0" />
      <mass
        value="0.00691519226322913" />
      <inertia
        ixx="4.42030049554274E-07"
        ixy="3.31941462909456E-08"
        ixz="-9.77263254991616E-14"
        iyy="4.05343652763592E-07"
        iyz="-6.49926999139999E-15"
        izz="6.84998311616796E-07" />
    </inertial>
    <visual>
      <origin
        xyz="0 0 0"
        rpy="0 0 0" />
      <geometry>
        <mesh
          filename="meshes/L-SERVO-TIBIA-PITCH.obj" />
      </geometry>
      <material
        name="">
        <color
          rgba="0 0 1 1" />
      </material>
    </visual>
    <collision>
      <origin
        xyz="0 0 0"
        rpy="0 0 0" />
      <geometry>
        <mesh
          filename="meshes/L-SERVO-TIBIA-PITCH.obj" />
      </geometry>
    </collision>
  </link>
  <joint
    name="L-SERVO-TIBIA-PITCH"
    type="fixed">
    <origin
      xyz="0 0 0"
      rpy="1.5707963267949 0 0" />
    <parent
      link="L-LINK-ANKLE-TIBIA" />
    <child
      link="L-SERVO-TIBIA-PITCH" />
    <axis
      xyz="0 0 0" />
  </joint>
  <link
    name="L-LINK-TIBIA-FOOT">
    <inertial>
      <origin
        xyz="-0.0346106819822764 0.0174106572682494 0.00493837174624016"
        rpy="0 0 0" />
      <mass
        value="0.00862384221571941" />
      <inertia
        ixx="1.56482853918435E-06"
        ixy="-9.25199440592683E-09"
        ixz="2.38005169918822E-09"
        iyy="4.04460133877994E-06"
        iyz="6.61009493683392E-10"
        izz="5.13010743226957E-06" />
    </inertial>
    <visual>
      <origin
        xyz="0 0 0"
        rpy="0 0 0" />
      <geometry>
        <mesh
          filename="meshes/L-LINK-TIBIA-FOOT.obj" />
      </geometry>
      <material
        name="">
        <color
          rgba="0.843137254901961 0.815686274509804 0.752941176470588 1" />
      </material>
    </visual>
    <collision>
      <origin
        xyz="0 0 0"
        rpy="0 0 0" />
      <geometry>
        <mesh
          filename="meshes/L-LINK-TIBIA-FOOT.obj" />
      </geometry>
    </collision>
  </link>
  <joint
    name="L-TIBIA-PITCH"
    type="continuous">
    <origin
      xyz="0 0 0"
      rpy="3.14159265358979 -1.21482038941994 -3.14159265358979" />
    <parent
      link="L-SERVO-TIBIA-PITCH" />
    <child
      link="L-LINK-TIBIA-FOOT" />
    <axis
      xyz="0 1 0" />
    <limit
      lower="-6.28"
      upper="6.28"
      effort="80"
      velocity="15" />
  </joint>
  <link
    name="L-SUCTION">
    <inertial>
      <origin
        xyz="-0.000637154614528304 0.0136984199923233 8.29562529780503E-11"
        rpy="0 0 0" />
      <mass
        value="0.007293938189965" />
      <inertia
        ixx="4.46175857834522E-07"
        ixy="3.31941474511063E-08"
        ixz="-9.83667903775169E-14"
        iyy="4.12017302691609E-07"
        iyz="-5.34846753705949E-15"
        izz="6.89144120136722E-07" />
    </inertial>
    <visual>
      <origin
        xyz="0 0 0"
        rpy="0 0 0" />
      <geometry>
        <mesh
          filename="meshes/L-SUCTION.obj" />
      </geometry>
      <material
        name="">
        <color
          rgba="0 0 1 1" />
      </material>
    </visual>
    <collision>
      <origin
        xyz="0 0 0"
        rpy="0 0 0" />
      <geometry>
        <mesh
          filename="meshes/L-SUCTION.obj" />
      </geometry>
    </collision>
  </link>
  <joint
    name="L-SUCTION"
    type="fixed">
    <origin
      xyz="-0.03092034725999 -0.00780000000000004 0.00492086078353519"
      rpy="3.14159265358979 0 -3.14159265358979" />
    <parent
      link="L-LINK-TIBIA-FOOT" />
    <child
      link="L-SUCTION" />
    <axis
      xyz="0 0 0" />
  </joint>
  <link
    name="L-SERVO-FOOT-PITCH">
    <inertial>
      <origin
        xyz="0.00486549149133683 0.0126114353267442 1.06635977825675E-10"
        rpy="0 0 0" />
      <mass
        value="0.00691519226285069" />
      <inertia
        ixx="4.42030049437914E-07"
        ixy="3.31941463295134E-08"
        ixz="-9.77789049568659E-14"
        iyy="4.05343652811746E-07"
        iyz="-6.53972704877808E-15"
        izz="6.84998311571071E-07" />
    </inertial>
    <visual>
      <origin
        xyz="0 0 0"
        rpy="0 0 0" />
      <geometry>
        <mesh
          filename="meshes/L-SERVO-FOOT-PITCH.obj" />
      </geometry>
      <material
        name="">
        <color
          rgba="0 0 1 1" />
      </material>
    </visual>
    <collision>
      <origin
        xyz="0 0 0"
        rpy="0 0 0" />
      <geometry>
        <mesh
          filename="meshes/L-SERVO-FOOT-PITCH.obj" />
      </geometry>
    </collision>
  </link>
  <joint
    name="L-FOOT-PITCH"
    type="continuous">
    <origin
      xyz="-0.0691703472599892 0.000991343468366913 0.00492086078353873"
      rpy="3.14159265358964 0.986473163636373 -3.14159265358979" />
    <parent
      link="L-LINK-TIBIA-FOOT" />
    <child
      link="L-SERVO-FOOT-PITCH" />
    <axis
      xyz="0 1 0" />
    <limit
      lower="-6.28"
      upper="6.28"
      effort="80"
      velocity="15" />
  </joint>
  <link
    name="L-SC-FOOT-PITCH">
    <inertial>
      <origin
        xyz="-0.0116475012046409 3.30755006716643E-10 0.0122910124303988"
        rpy="0 0 0" />
      <mass
        value="0.00307410332930239" />
      <inertia
        ixx="1.08655905800624E-07"
        ixy="-1.61860421164945E-14"
        ixz="1.20338478042502E-09"
        iyy="5.74904925280058E-07"
        iyz="8.66289150465694E-17"
        izz="6.41370988420448E-07" />
    </inertial>
    <visual>
      <origin
        xyz="0 0 0"
        rpy="0 0 0" />
      <geometry>
        <mesh
          filename="meshes/L-SC-FOOT-PITCH.obj" />
      </geometry>
      <material
        name="">
        <color
          rgba="0.792156862745098 0.819607843137255 0.933333333333333 1" />
      </material>
    </visual>
    <collision>
      <origin
        xyz="0 0 0"
        rpy="0 0 0" />
      <geometry>
        <mesh
          filename="meshes/L-SC-FOOT-PITCH.obj" />
      </geometry>
    </collision>
  </link>
  <joint
    name="L-SC-FOOT-PITCH"
    type="fixed">
    <origin
      xyz="0 0.01 0"
      rpy="1.5707963267949 0 -3.14159265358979" />
    <parent
      link="L-SERVO-FOOT-PITCH" />
    <child
      link="L-SC-FOOT-PITCH" />
    <axis
      xyz="0 0 0" />
  </joint>
  <link
    name="L-SC2-FOOT-PITCH">
    <inertial>
      <origin
        xyz="-0.0110056724842781 -9.68669588985449E-15 0.00494727015446738"
        rpy="0 0 0" />
      <mass
        value="0.00563001173416682" />
      <inertia
        ixx="4.10832626497924E-07"
        ixy="-4.36751363427999E-22"
        ixz="9.16102996573989E-09"
        iyy="9.89611620976253E-07"
        iyz="-6.09011725992167E-23"
        izz="9.41329800063614E-07" />
    </inertial>
    <visual>
      <origin
        xyz="0 0 0"
        rpy="0 0 0" />
      <geometry>
        <mesh
          filename="meshes/L-SC2-FOOT-PITCH.obj" />
      </geometry>
      <material
        name="">
        <color
          rgba="0.843137254901961 0.815686274509804 0.752941176470588 1" />
      </material>
    </visual>
    <collision>
      <origin
        xyz="0 0 0"
        rpy="0 0 0" />
      <geometry>
        <mesh
          filename="meshes/L-SC2-FOOT-PITCH.obj" />
      </geometry>
    </collision>
  </link>
  <joint
    name="L-SC2-FOOT-PITCH"
    type="fixed">
    <origin
      xyz="0 0 0"
      rpy="1.5707963267949 0 3.14159265358979" />
    <parent
      link="L-SERVO-FOOT-PITCH" />
    <child
      link="L-SC2-FOOT-PITCH" />
    <axis
      xyz="0 0 0" />
  </joint>
  <link
    name="L-SERVO-FOOT-ROLL">
    <inertial>
      <origin
        xyz="0.00486549043054146 -0.0100675053492741 1.36186478760791E-10"
        rpy="0 0 0" />
      <mass
        value="0.00691519440391438" />
      <inertia
        ixx="4.42030128795482E-07"
        ixy="3.31941855802406E-08"
        ixz="-1.08159445008788E-13"
        iyy="4.05343731376057E-07"
        iyz="-1.00250994753867E-14"
        izz="6.84998379941284E-07" />
    </inertial>
    <visual>
      <origin
        xyz="0 0 0"
        rpy="0 0 0" />
      <geometry>
        <mesh
          filename="meshes/L-SERVO-FOOT-ROLL.obj" />
      </geometry>
      <material
        name="">
        <color
          rgba="0 0 1 1" />
      </material>
    </visual>
    <collision>
      <origin
        xyz="0 0 0"
        rpy="0 0 0" />
      <geometry>
        <mesh
          filename="meshes/L-SERVO-FOOT-ROLL.obj" />
      </geometry>
    </collision>
  </link>
  <joint
    name="L-FOOT-ROLL"
    type="continuous">
    <origin
      xyz="-0.0336297145357536 0 0.00550865653160941"
      rpy="-3.14159265358953 -1.568123927556 1.57079632679464" />
    <parent
      link="L-SC2-FOOT-PITCH" />
    <child
      link="L-SERVO-FOOT-ROLL" />
    <axis
      xyz="0 1 0" />
    <limit
      lower="-6.28"
      upper="6.28"
      effort="80"
      velocity="15" />
  </joint>
  <link
    name="L-FOOT">
    <inertial>
      <origin
        xyz="-1.95958453468176E-05 -0.00444181247418951 0.00135270420107354"
        rpy="0 0 0" />
      <mass
        value="0.00920518287932567" />
      <inertia
        ixx="1.05680977304839E-06"
        ixy="7.90522173076117E-10"
        ixz="-4.19163906496267E-10"
        iyy="1.2788243931053E-06"
        iyz="4.00295480729578E-08"
        izz="1.03165986894221E-06" />
    </inertial>
    <visual>
      <origin
        xyz="0 0 0"
        rpy="0 0 0" />
      <geometry>
        <mesh
          filename="meshes/L-FOOT.obj" />
      </geometry>
      <material
        name="">
        <color
          rgba="0.843137254901961 0.815686274509804 0.752941176470588 0.1" />
      </material>
    </visual>
    <collision>
      <origin
        xyz="0 0 0"
        rpy="0 0 0" />
      <geometry>
        <mesh
          filename="meshes/L-FOOT.obj" />
      </geometry>
    </collision>
  </link>
  <joint
    name="L-FOOT"
    type="fixed">
    <origin
      xyz="0.00525000000000002 -0.0236702854642496 0"
      rpy="1.57079632678999 0 3.14159265358979" />
    <parent
      link="L-SERVO-FOOT-ROLL" />
    <child
      link="L-FOOT" />
    <axis
      xyz="0 0 0" />
  </joint>
  <link
    name="L-SUCTIONCUP">
    <inertial>
      <origin
        xyz="-2.77555756156289E-17 1.90265760091624E-09 0.000499999999996364"
        rpy="0 0 0" />
      <mass
        value="0.000547101592653589" />
      <inertia
        ixx="3.78528310393958E-08"
        ixy="-7.57265278023708E-23"
        ixz="-9.43826003620076E-24"
        iyy="1.64561539339865E-08"
        iyz="1.43694970395191E-13"
        izz="5.4217801373513E-08" />
    </inertial>
    <visual>
      <origin
        xyz="0 0 0"
        rpy="0 0 0" />
      <geometry>
        <mesh
          filename="meshes/L-SUCTIONCUP.obj" />
      </geometry>
      <material
        name="">
        <color
          rgba="0.792156862745098 0.819607843137255 0.933333333333333 1" />
      </material>
    </visual>
    <collision>
      <origin
        xyz="0 0 0"
        rpy="0 0 0" />
      <geometry>
        <mesh
          filename="meshes/L-SUCTIONCUP.obj" />
      </geometry>
    </collision>
  </link>
  <joint
    name="L-SUCTIONCUP"
    type="fixed">
    <origin
      xyz="0 -0.0116636317567518 -0.00454575689715984"
      rpy="1.06027104479611 0 -3.14159265094917" />
    <parent
      link="L-FOOT" />
    <child
      link="L-SUCTIONCUP" />
    <axis
      xyz="0 0 0" />
  </joint>
</robot>
